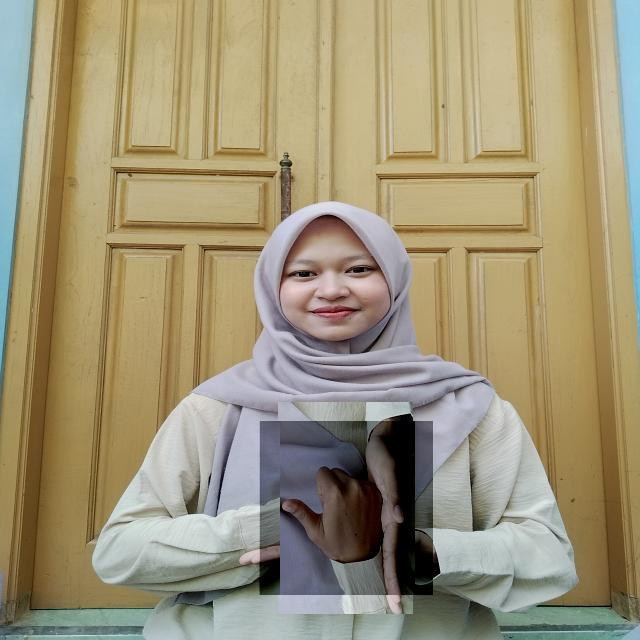cantik: (258, 421, 432, 595)
